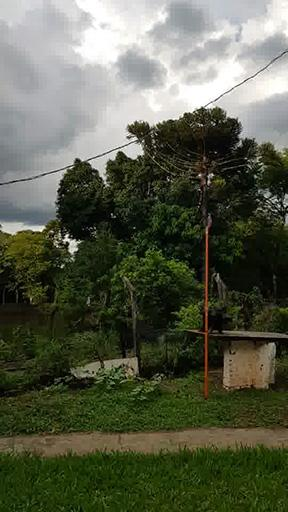Vara_Manobra: (203, 229, 209, 399)
